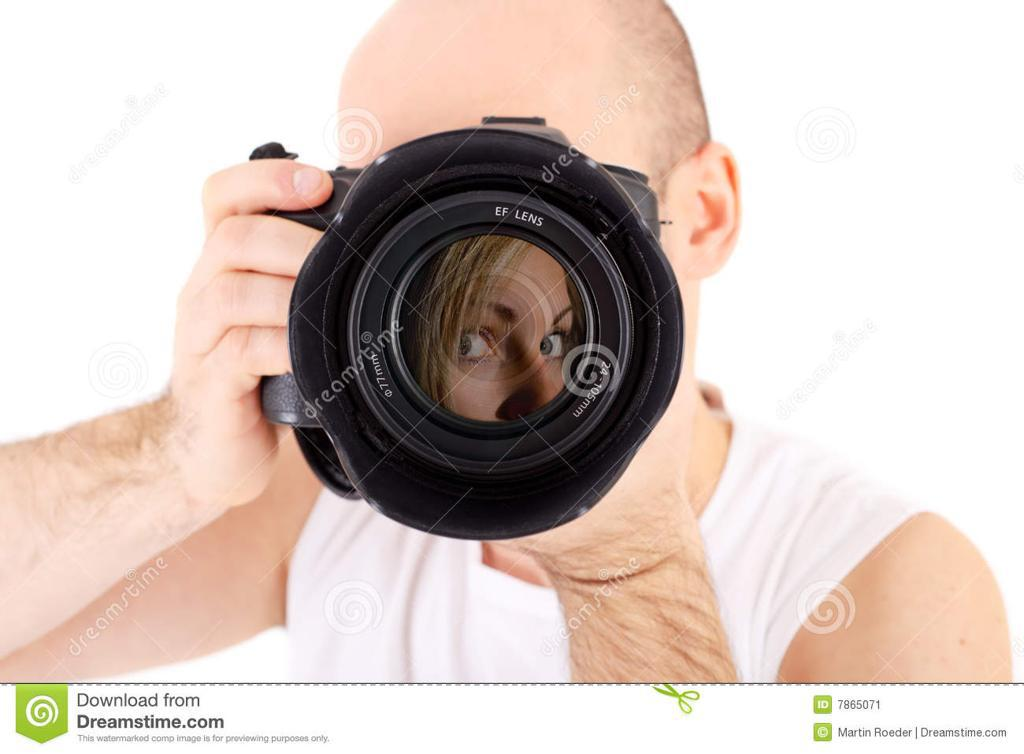face: (441, 221, 589, 531)
